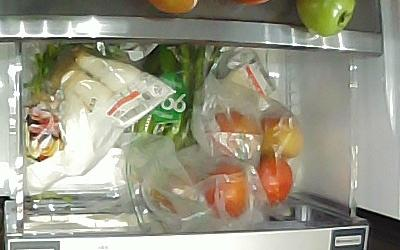prune_vinyl: (202, 107, 264, 163), (202, 159, 251, 219), (258, 110, 304, 158), (253, 154, 293, 205)
